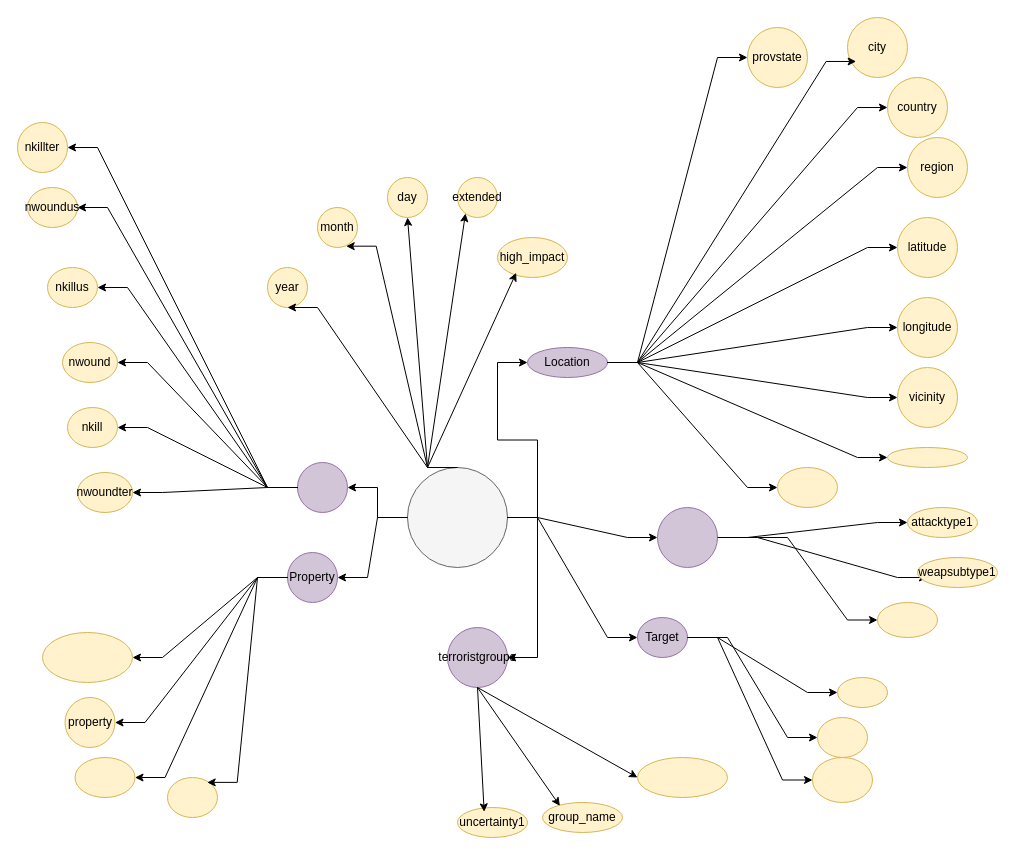
Image size: 1015x855. Some labels were removed from this diagram. Each missing label, with the centre of its shape:
"Attack" belongs at [687,537].
"casualties" belongs at [322,487].
"extent" belongs at [104,777].
"incidents" belongs at [457,517].
"nationality1" belongs at [842,779].
"property_id" belongs at [192,797].
"propvalue_category" belongs at [87,657].
"specificity" belongs at [807,487].
"targsubtype1" belongs at [842,737].
"targtype1" belongs at [862,692].
"unknown_group" belongs at [682,777].
"unknown_location" belongs at [927,457].
"weaptype1" belongs at [907,620].
